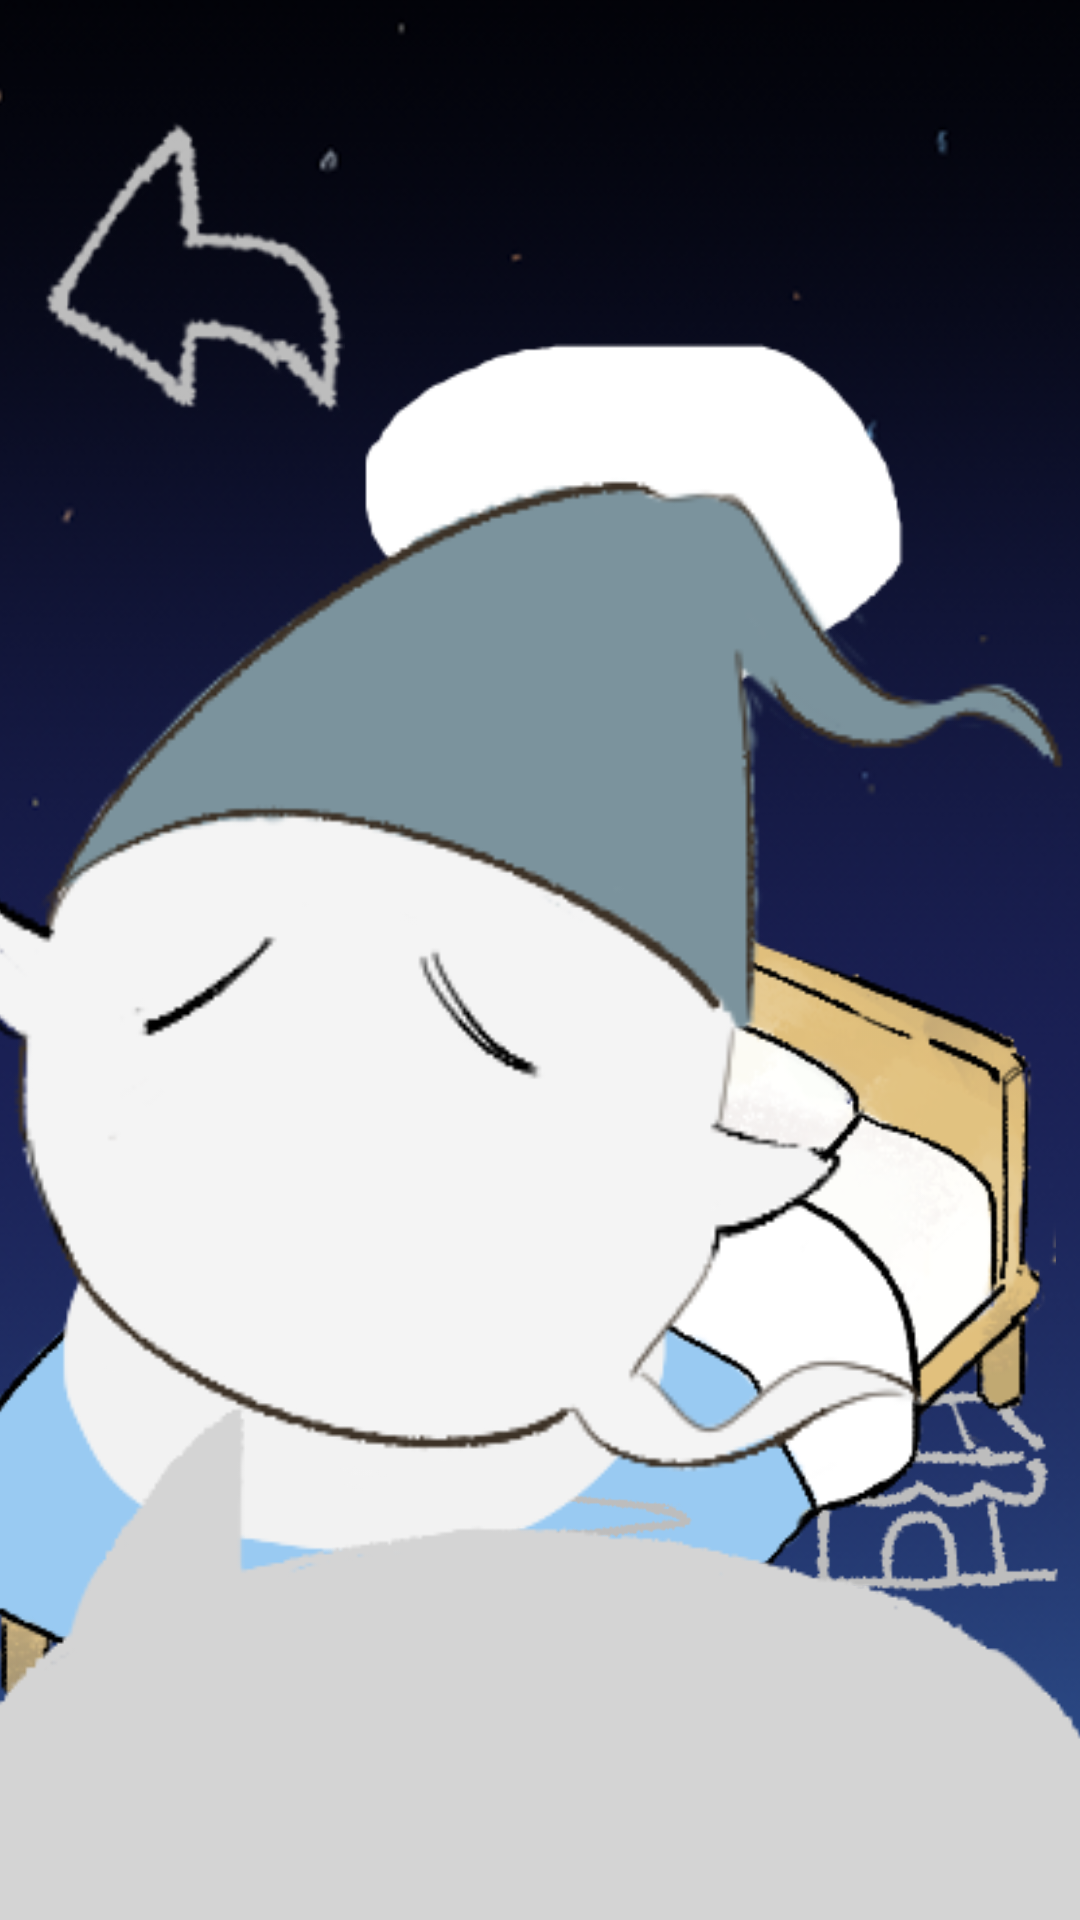

Where to tap for icons on this 1080x1920 app screen, as (x=x, y=y):
shop: (x=911, y=1485)
